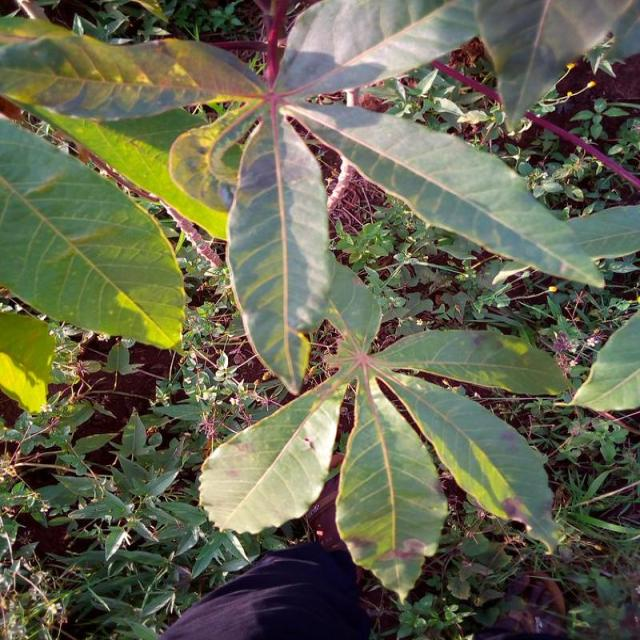cassava leaf: (0, 1, 638, 604), (280, 98, 609, 290), (0, 114, 188, 351), (374, 367, 560, 555), (224, 110, 334, 395), (334, 374, 448, 603), (197, 372, 346, 536)
